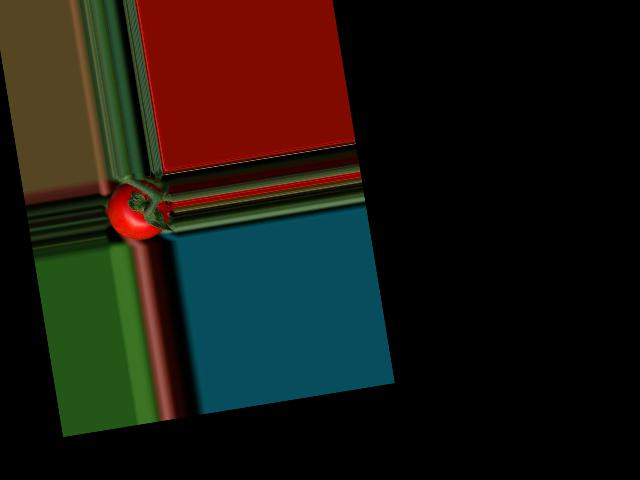tomato: (103, 175, 176, 244)
